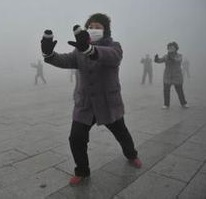person: (39, 11, 146, 188), (153, 39, 193, 110), (28, 56, 48, 86), (139, 52, 155, 86)
